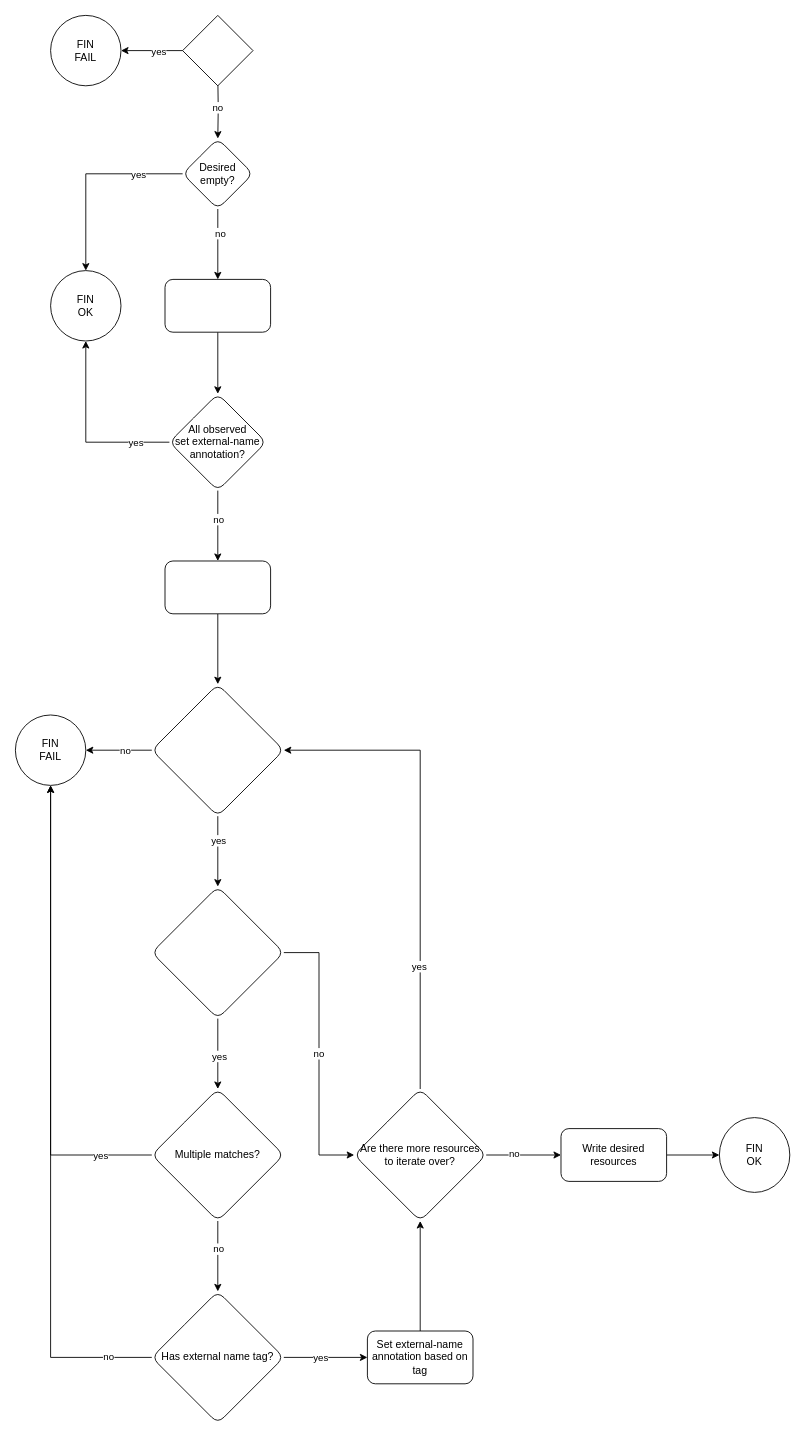
Image size: 805x1439. Some labels were removed from this diagram. The shapes that lost their labels are listed below. From the top down, each one's box as (x1, y1, x2, y2) in pixels, then its label:
(182, 15, 253, 86): Input validation failed?
(164, 279, 271, 332): Copy observed external name annotations to desired tags
(164, 560, 271, 614): Iterate over desired composed
(151, 683, 284, 816): Can resolve tag filter for current resource?
(151, 886, 284, 1019): Found resource on AWS?
